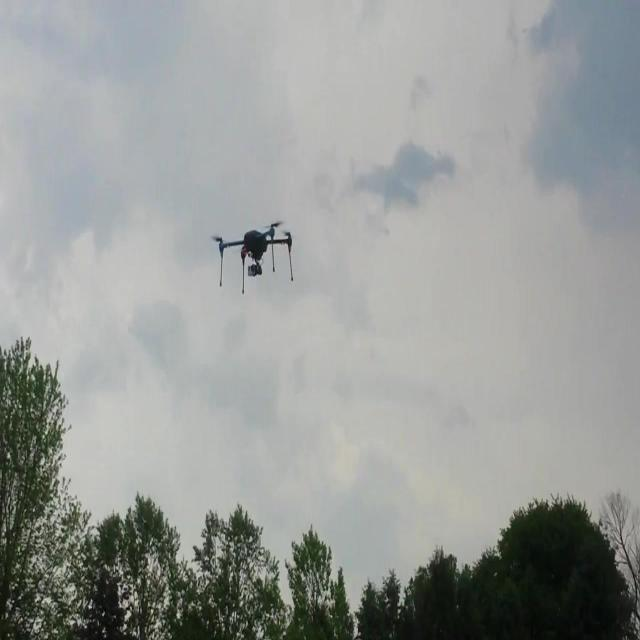UAV: (211, 220, 293, 294)
